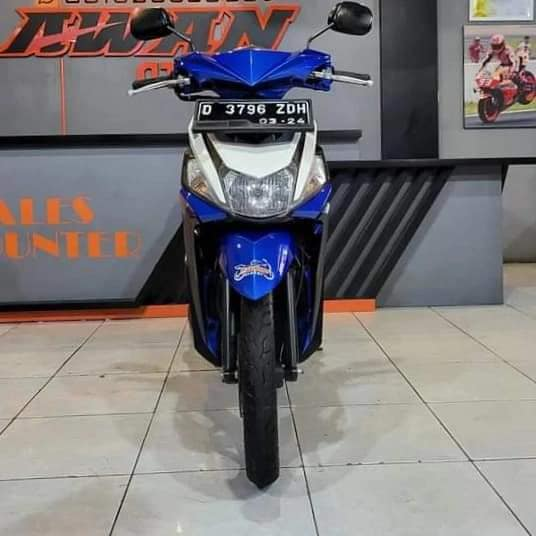plate: (195, 95, 315, 131)
